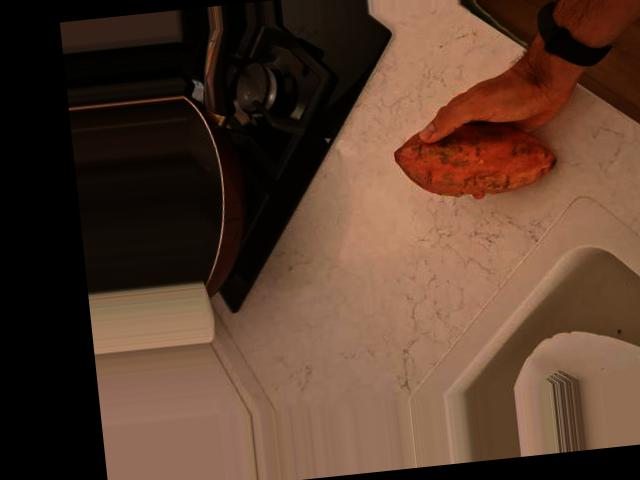sweet_potato: (396, 116, 559, 198)
